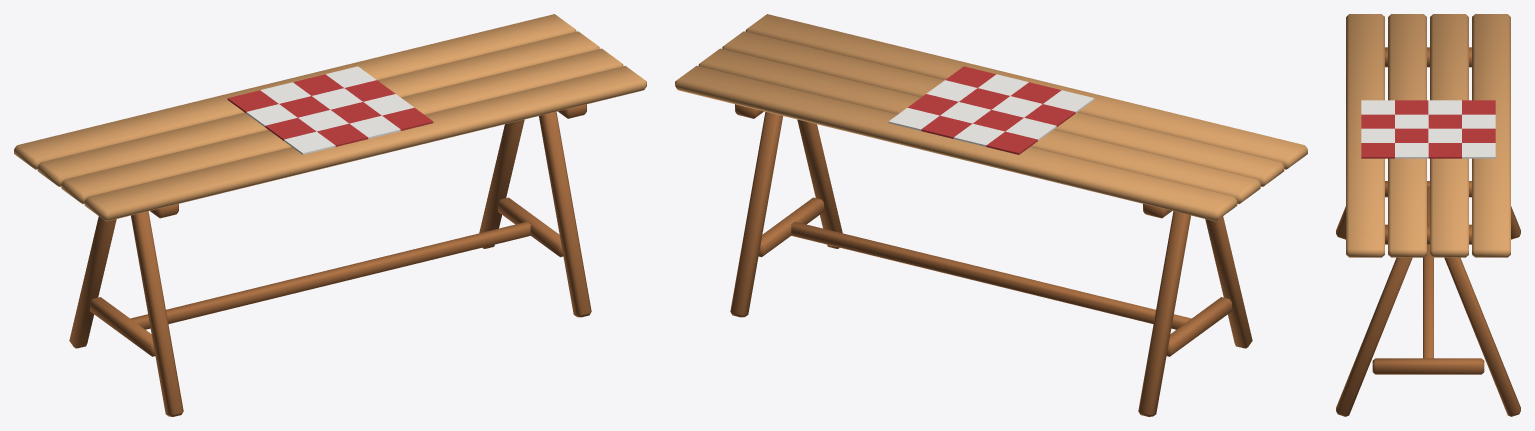
Rendered from mesa_biergarten.glb.
The picture shows the model from 3 angles, left to right: view 1: azimuth 30°, elevation 25°; view 2: azimuth 150°, elevation 25°; view 3: azimuth 270°, elevation 25°; orthographic projection. The views are drawn at different scales.
Visible parts, largest first — view 1: Mesa_Biergarten; view 2: Mesa_Biergarten; view 3: Mesa_Biergarten.
Part boxes in pixels (left/top/right/bottom): Mesa_Biergarten: left=14, top=14, right=646, bottom=416; Mesa_Biergarten: left=675, top=14, right=1307, bottom=416; Mesa_Biergarten: left=1336, top=14, right=1520, bottom=416.
Bounding box in the file's own units: 2 × 0.7801 × 0.6607.
